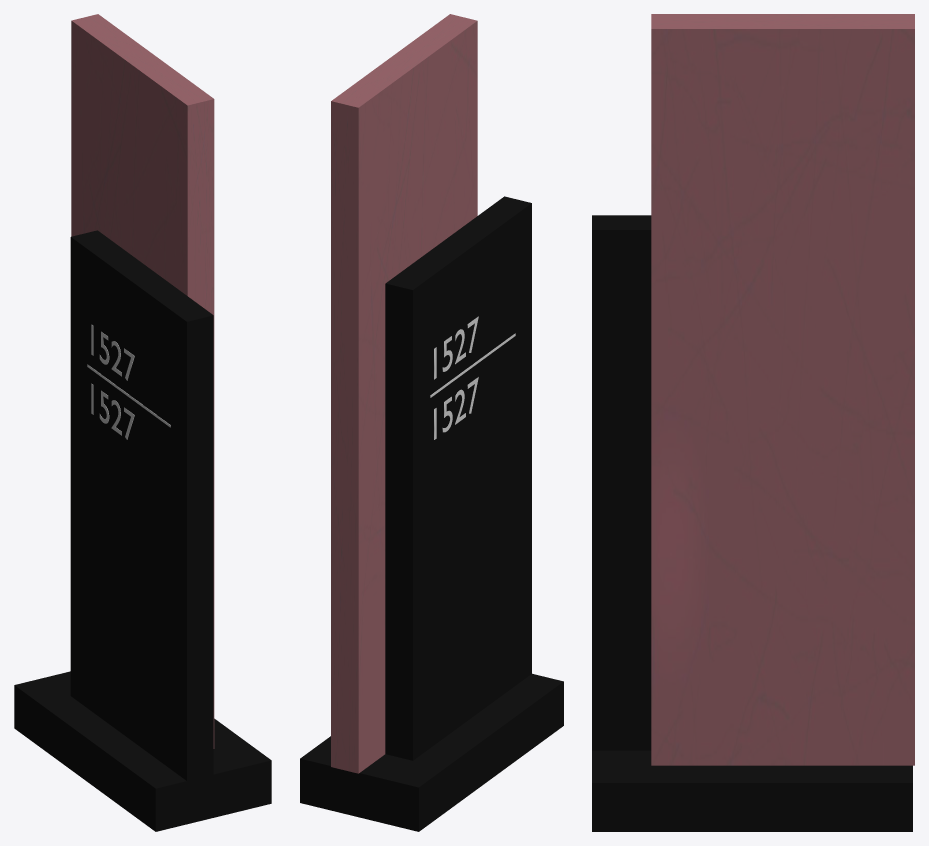
File: papan.kecil.fbx
3 renders of one model, left to right at view 1: azimuth 30°, elevation 25°; view 2: azimuth 150°, elevation 25°; view 3: azimuth 270°, elevation 25°, orthographic. The views are drawn at different scales.
Visible parts, largest first — view 1: black, gold.pk, base.pk, name.room, eng.text; view 2: black, gold.pk, base.pk, name.room, eng.text; view 3: gold.pk, black, base.pk.
Part boxes in pixels (<box>): black: <box>70,230,213,780</box>; gold.pk: <box>71,14,214,748</box>; base.pk: <box>14,671,271,831</box>; name.room: <box>91,324,134,380</box>; eng.text: <box>91,383,134,439</box>; black: <box>385,196,531,760</box>; gold.pk: <box>331,14,477,773</box>; base.pk: <box>300,673,563,831</box>; name.room: <box>434,316,478,379</box>; eng.text: <box>434,377,478,439</box>; gold.pk: <box>651,14,914,765</box>; black: <box>592,215,651,750</box>; base.pk: <box>592,750,912,831</box>.
Bounding box in the file's own units: 140 × 800 × 298.
Materials: 5 (1 with a texture image).
